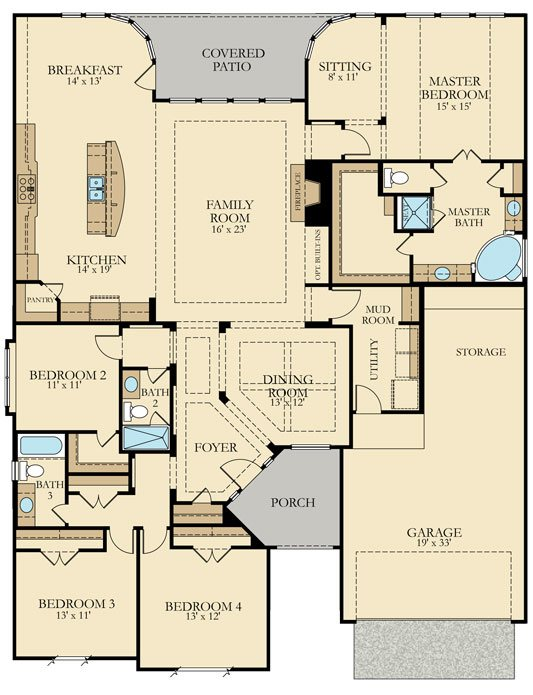door: (141, 534, 166, 558), (110, 533, 135, 557), (91, 333, 116, 357), (354, 383, 379, 407)
room: (10, 430, 71, 528)
